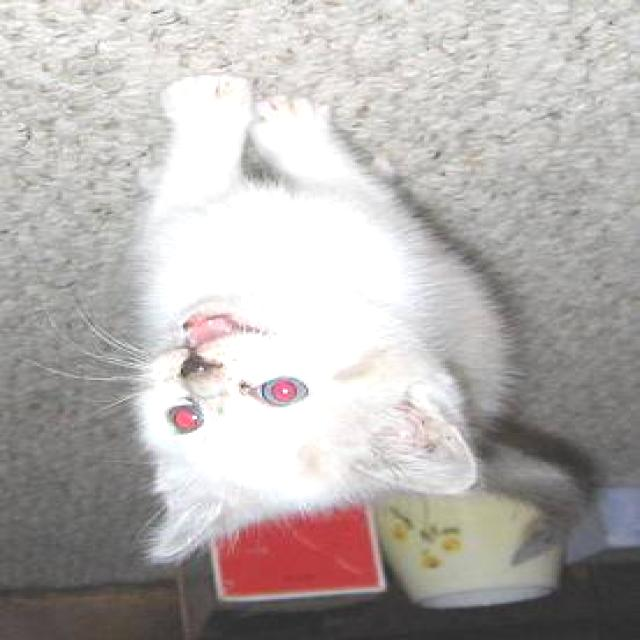Kucing: (32, 82, 596, 621)
